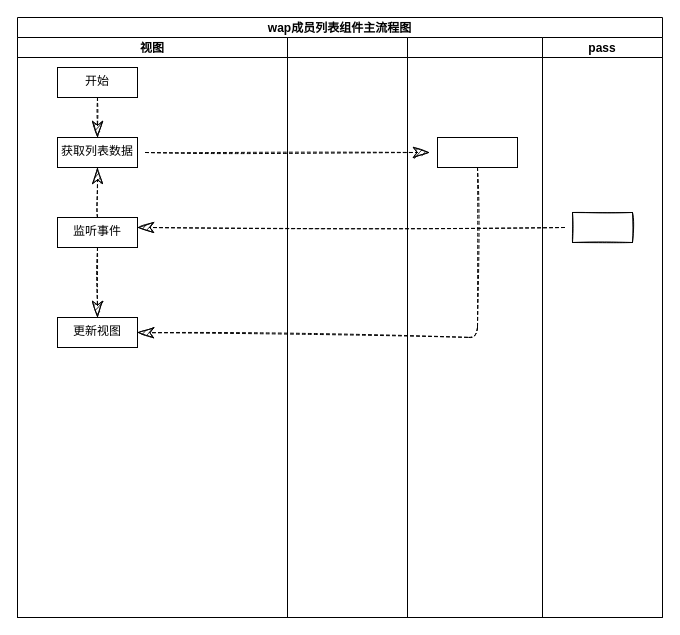
Some shapes in this 680 by 635 pixel diagram are drawn without their labels. Each missing label, with the box of its shape:
sdk: (286, 36, 408, 618)
后端: (406, 36, 542, 618)
接口调用: (436, 136, 518, 168)
派发事件: (572, 212, 632, 242)
